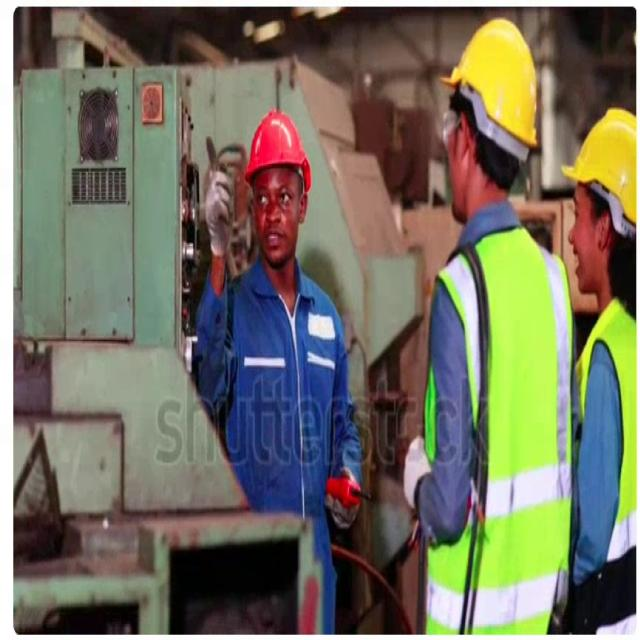gloved: (203, 136, 232, 257), (324, 466, 361, 530), (402, 435, 431, 509)
